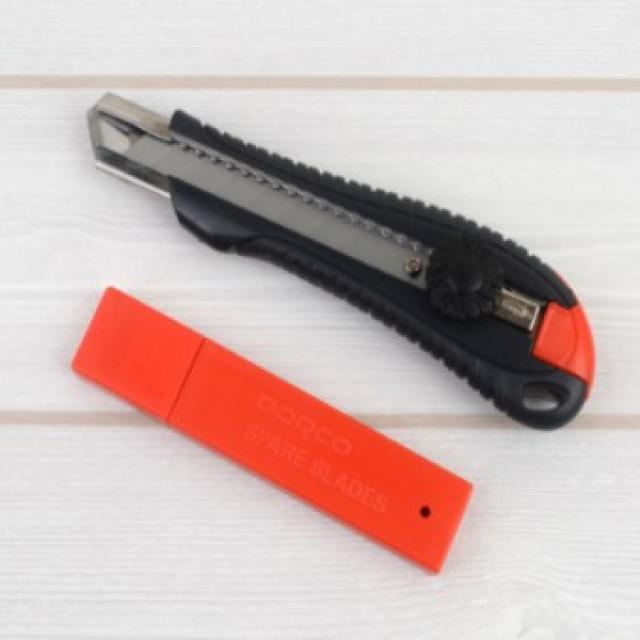cutter: (73, 82, 604, 432)
